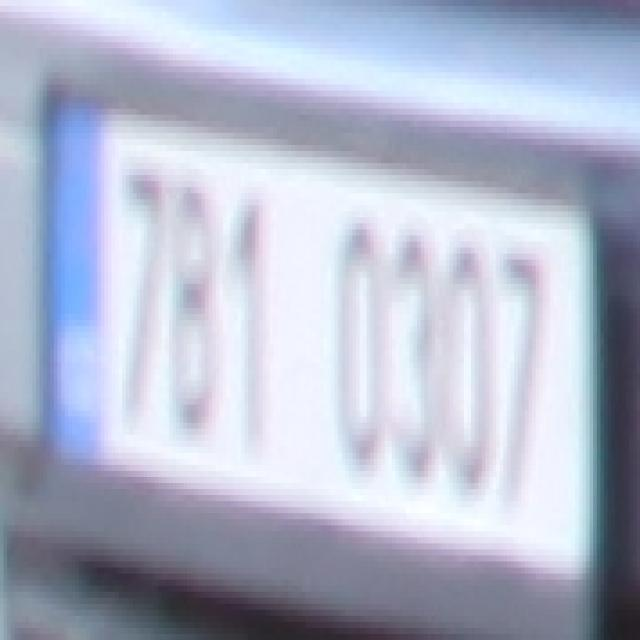0: (438, 230, 496, 514), (327, 212, 385, 464)
1: (219, 187, 270, 441)
3: (388, 230, 439, 496)
7: (108, 151, 166, 417), (496, 248, 547, 520)
B: (169, 175, 219, 429)
